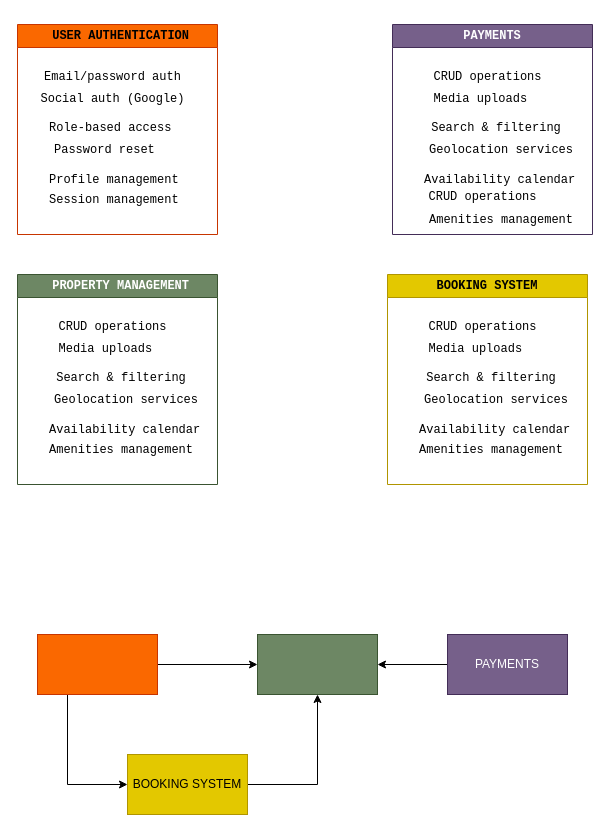
The diagram is 610 pixels wide and 832 high, and some of its shapes have lost their labels. The centre of each missing label's shape, as x and y in pixels:
PROPERTY MANAGEMMET: the point at 317,664
USER AUTH: the point at 97,664
